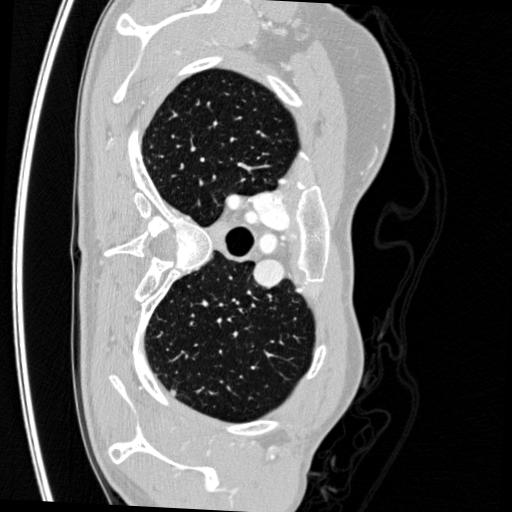nodule: (168, 389, 180, 401)
